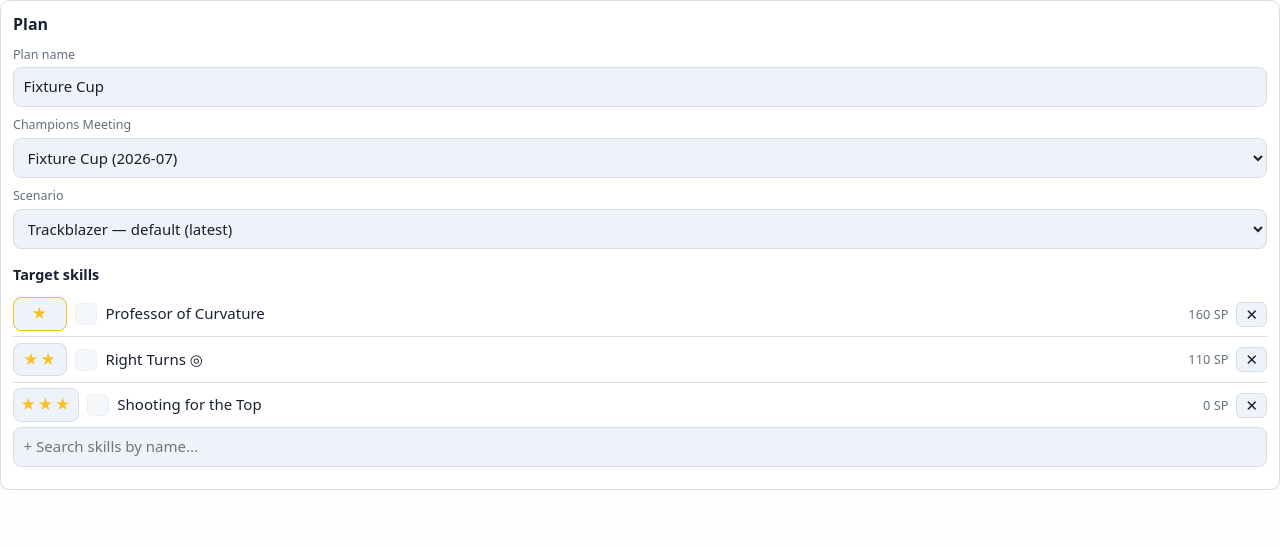
Scenario: PlanHeaderPanel skill search › never offers JP-server skills for a Global plan (P4)
Type "jp-only" into the search field labelled "Search skills by name".
click(640, 447); type("jp-only")  # box [13,427,1267,467]
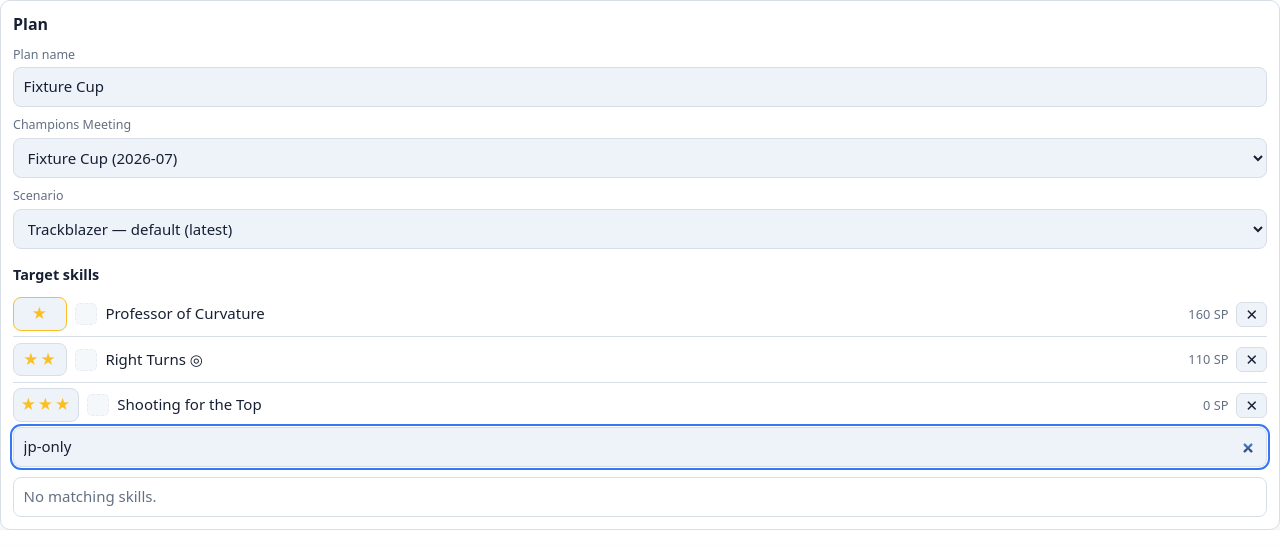
Expected: the list item "No matching skills." is shown, [24,486,157,506]
